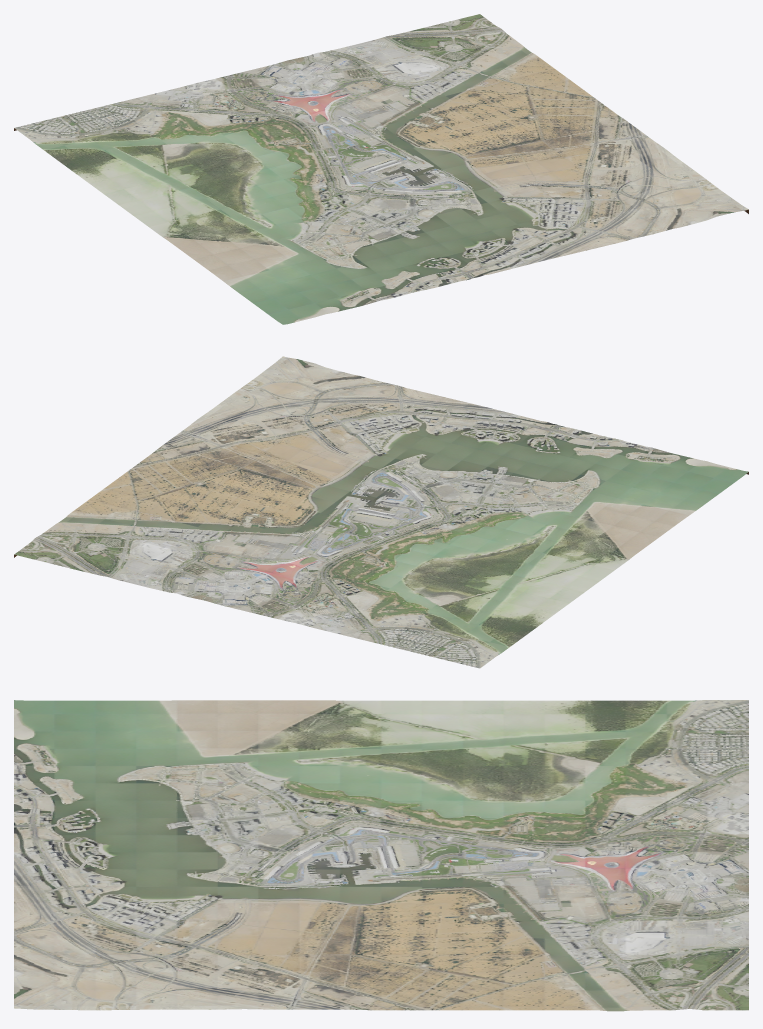
The model's file is 24_abu_dhabi_gp.glb.
3 views of the same model, one above another, from view 1: azimuth 30°, elevation 25°; view 2: azimuth 150°, elevation 25°; view 3: azimuth 270°, elevation 25° (orthographic). The views are drawn at different scales.
Visible parts, largest first — view 1: tinMesh; view 2: tinMesh; view 3: tinMesh.
Boxes of the visible parts, <box> form: tinMesh: <box>14,14,748,324</box>; tinMesh: <box>14,356,748,668</box>; tinMesh: <box>14,700,748,1011</box>.
Size of the model in its own units: 5500 by 66.5 by 5500.
Materials: 2 (2 with a texture image).
